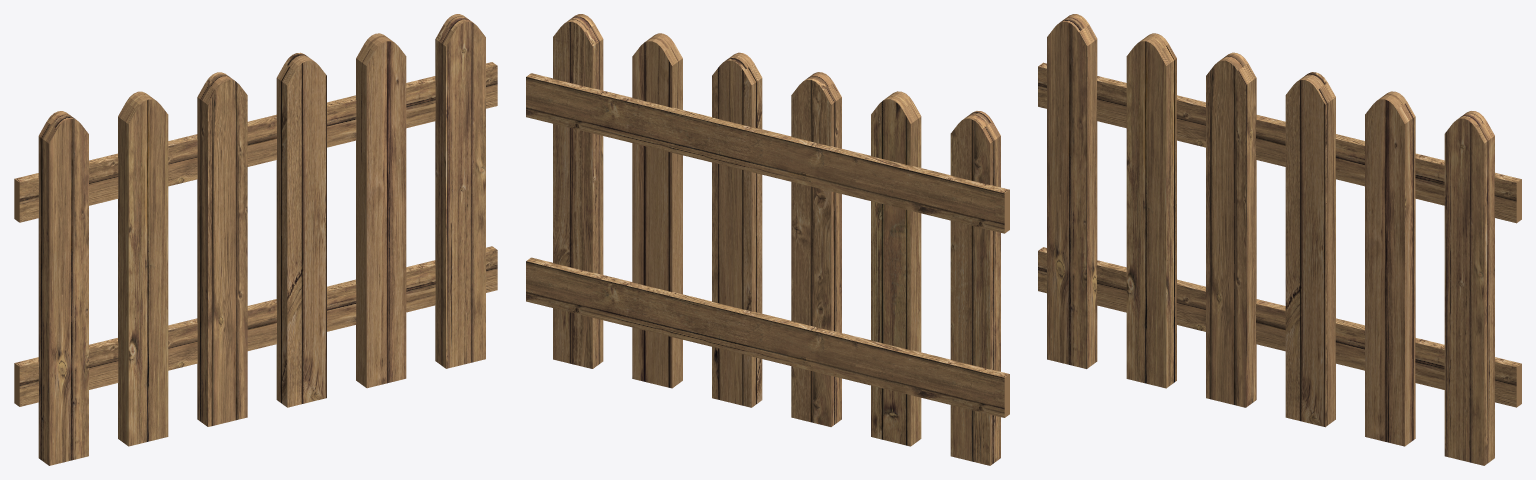
Rendered from fence wood.obj.
3 views of the same model, side by side, from view 1: azimuth 30°, elevation 25°; view 2: azimuth 150°, elevation 25°; view 3: azimuth 330°, elevation 25° (orthographic).
Visible parts, largest first — view 1: Cube.002_Cube.004; view 2: Cube.002_Cube.004; view 3: Cube.002_Cube.004.
Part boxes in pixels (x1=…): Cube.002_Cube.004: x1=14, y1=14, x2=497, y2=465; Cube.002_Cube.004: x1=526, y1=14, x2=1009, y2=465; Cube.002_Cube.004: x1=1038, y1=14, x2=1521, y2=465.
Bounding box in the file's own units: 1.77 × 1.21 × 0.1005.
1 material, 1 textured.
